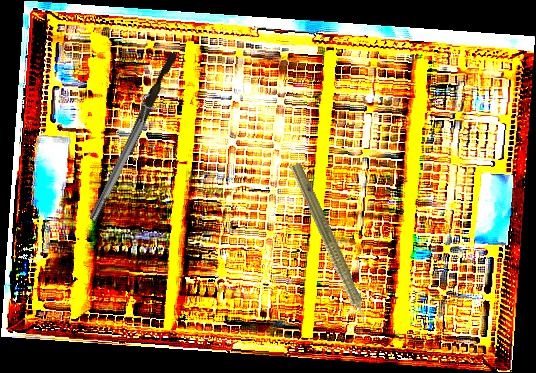Fixation Ring: (81, 91, 165, 225)
Handpiece: (283, 161, 380, 339)
Pusher: (91, 49, 178, 223)
